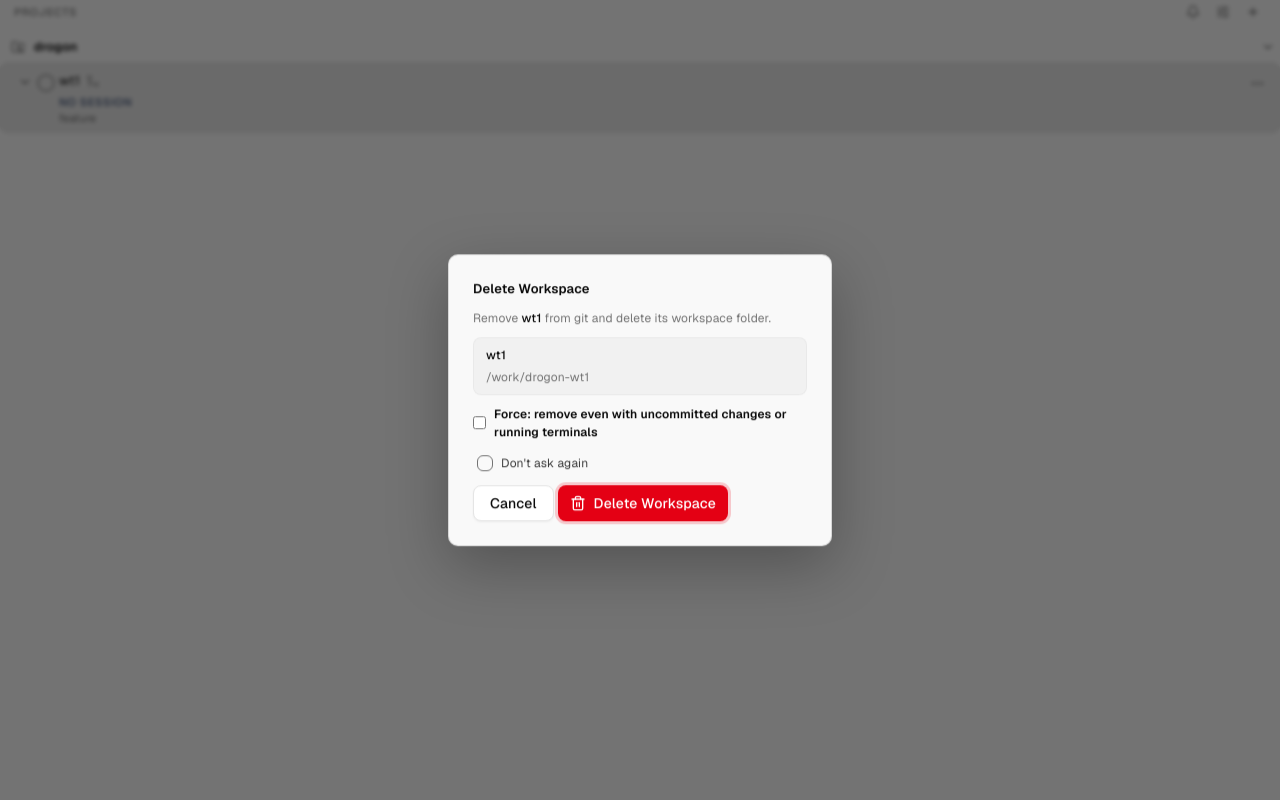
Test case: worktree Delete menu (#220) › confirming submits the removal unforced; a failure stays open to retry
What coordinates should you click on to do the following:
click the button "Delete Workspace"
I would click on:
 (643, 503)
Its box is [558, 485, 728, 521].
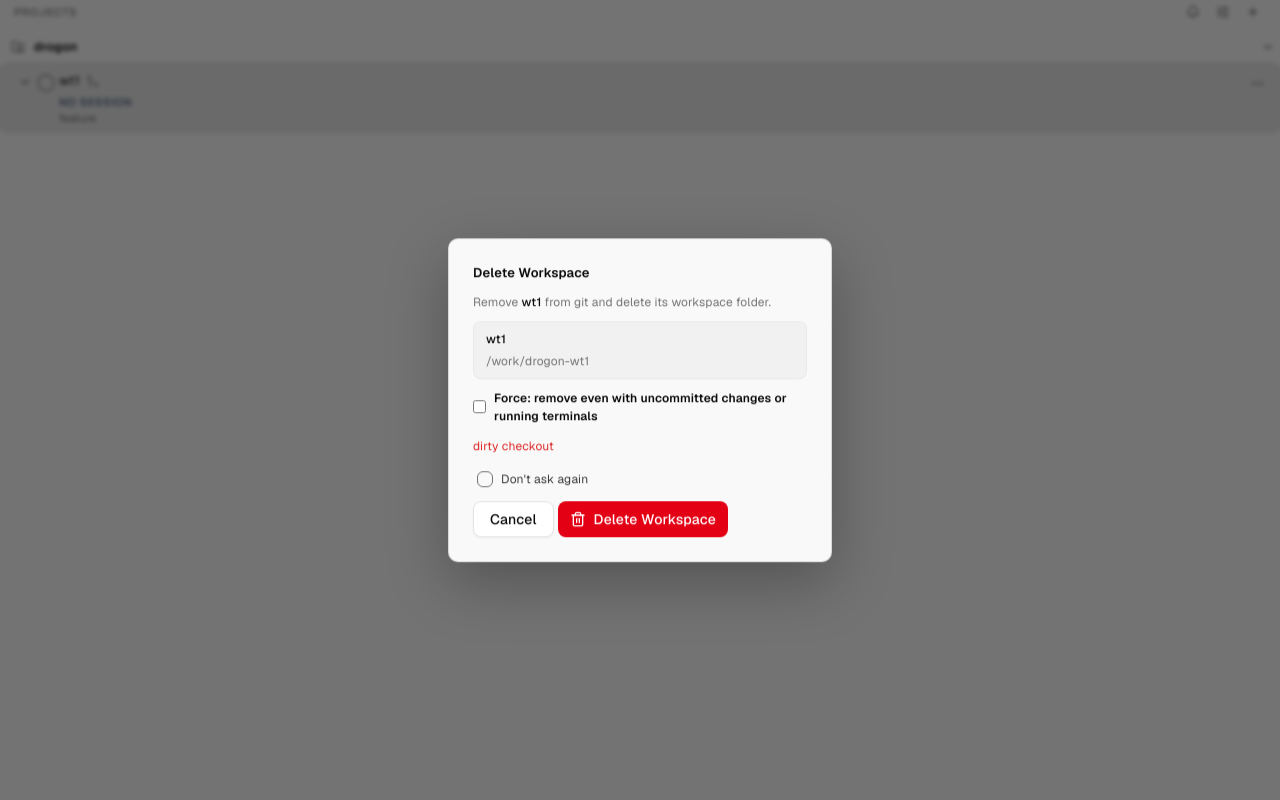
Expected: the form named "Delete workspace wt1" is shown, [473, 263, 807, 537]
Now the message "dirty checkout" is shown, box [473, 438, 554, 454]
